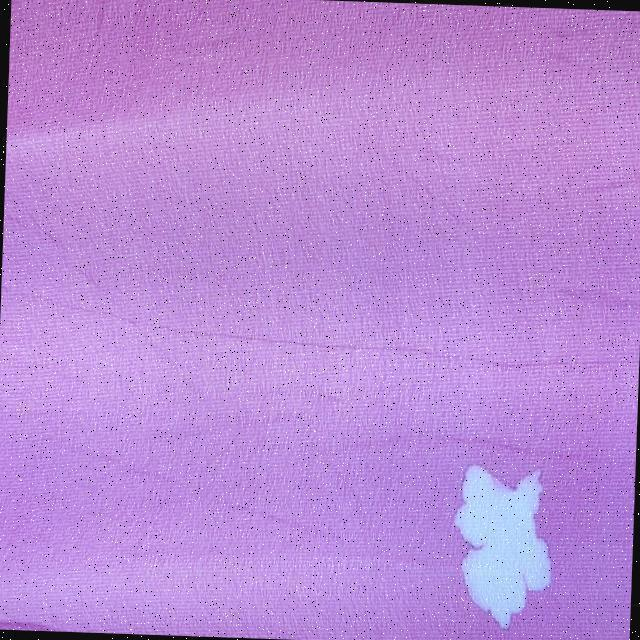pulled_or_thick_thread: (1, 281, 572, 375)
